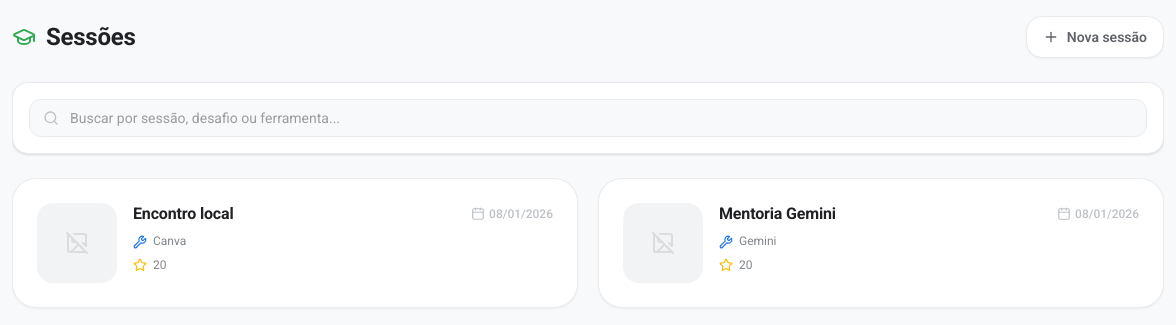
SessionsModule › filters sessions by title, challenge or tool learned
Type "gemini" into the field with placeholder "Buscar por sessão, desafio ou ferramenta...".
click(588, 118); type("gemini")  # box 29,99 -> 1147,137
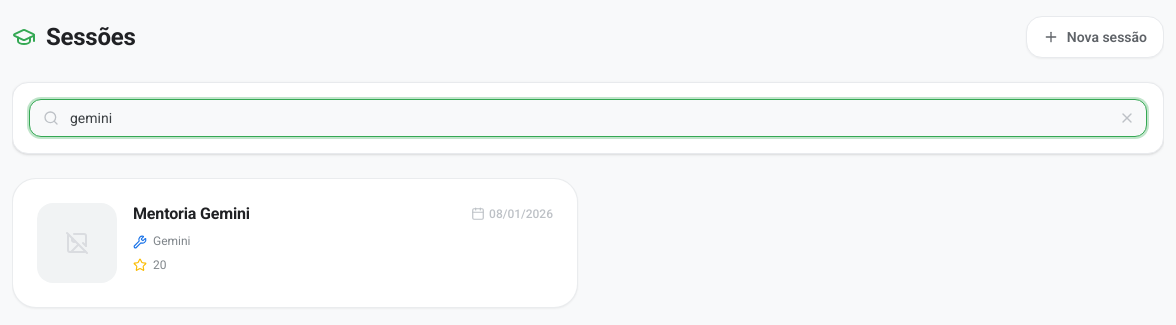
Check: the heading "Mentoria Gemini" is shown, box 133,203 -> 250,225
Check: the button "Encontro local" is gone
